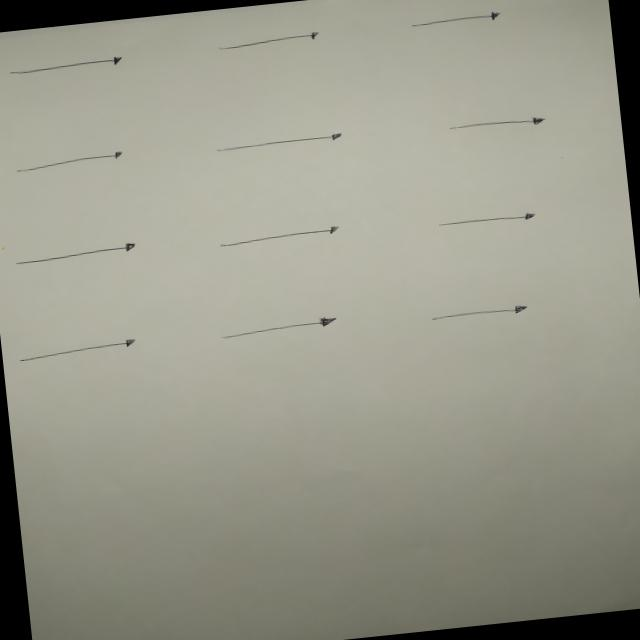arrow_line_right: (8, 328, 174, 371), (193, 12, 346, 58), (195, 120, 353, 162), (2, 136, 138, 184), (203, 309, 347, 353), (208, 215, 354, 258), (423, 194, 564, 238), (3, 232, 166, 270), (423, 101, 562, 145), (414, 288, 536, 334), (0, 43, 138, 83), (389, 0, 522, 39)
